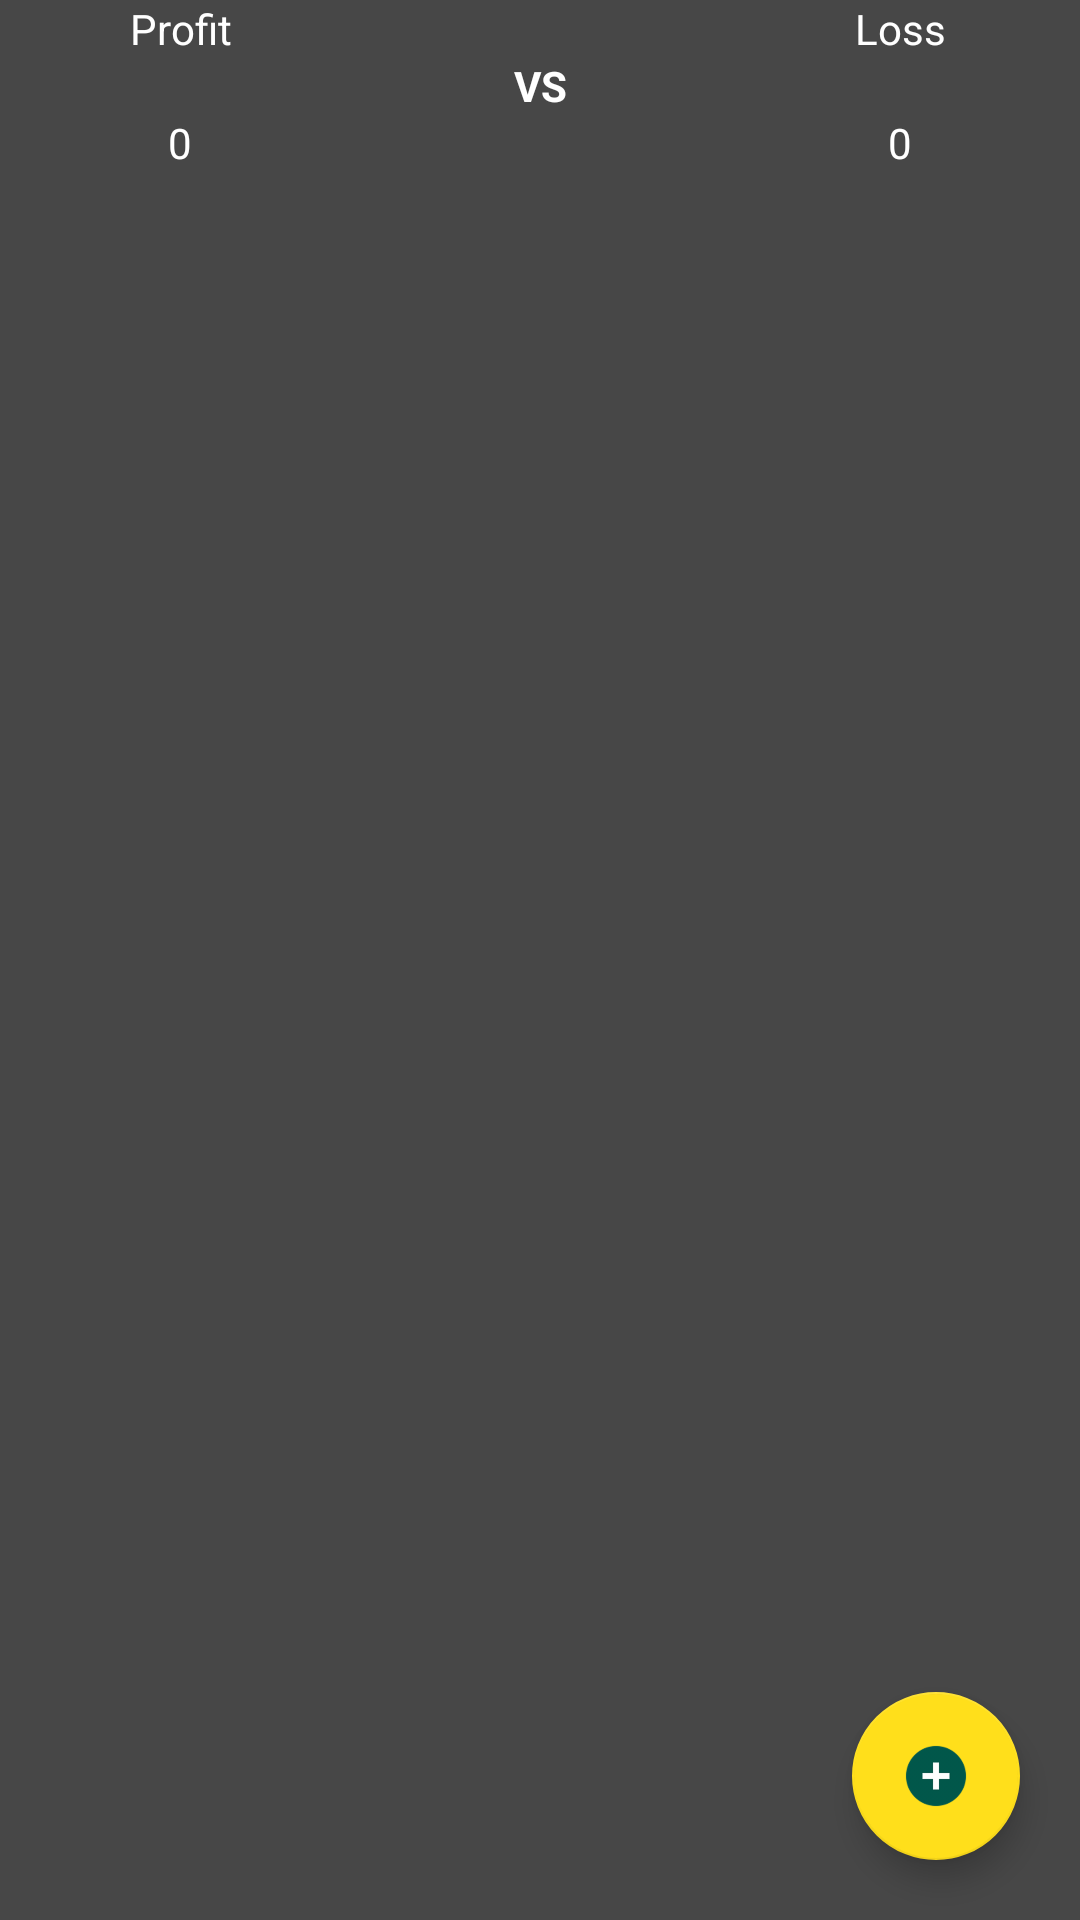

Icon click points for this 1080 × 1920 phone screenshot, format [x,y]:
addnew: [936,1776]
